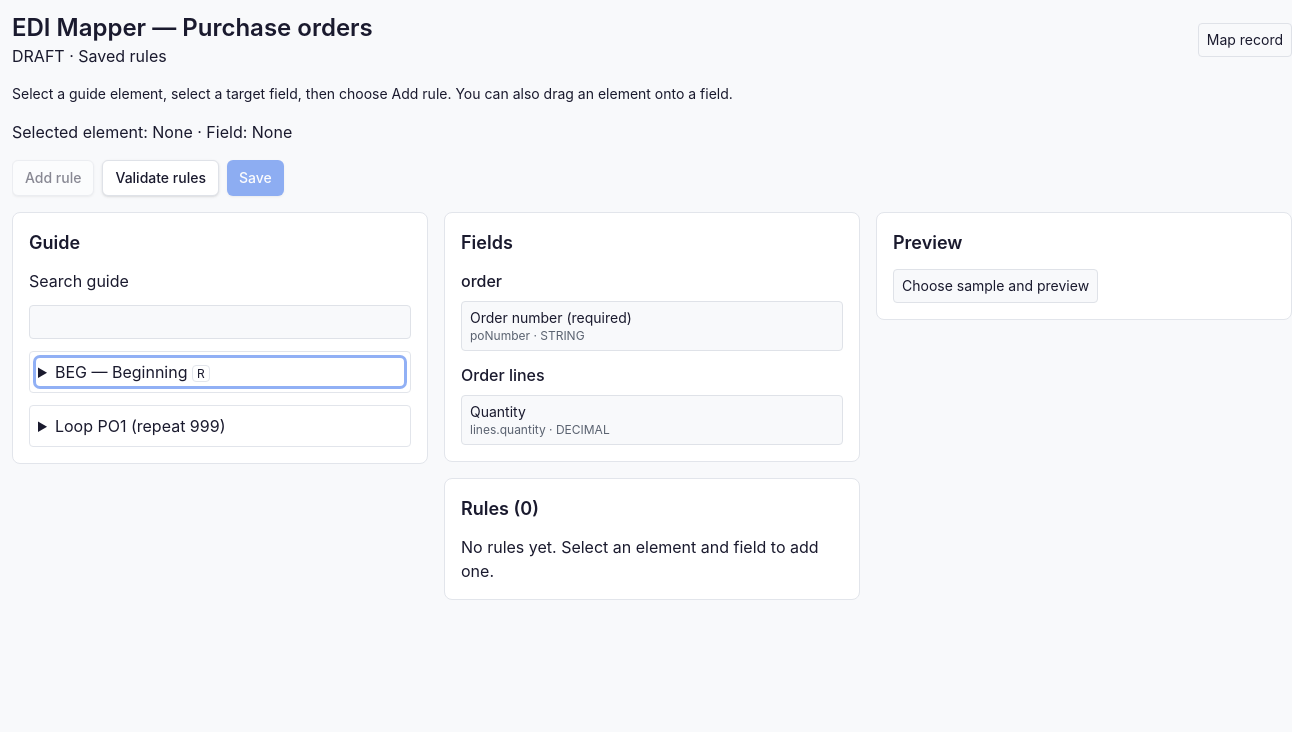
Test: saves inserted rules through core CRUD and does not insert again
Step 1. Press Enter
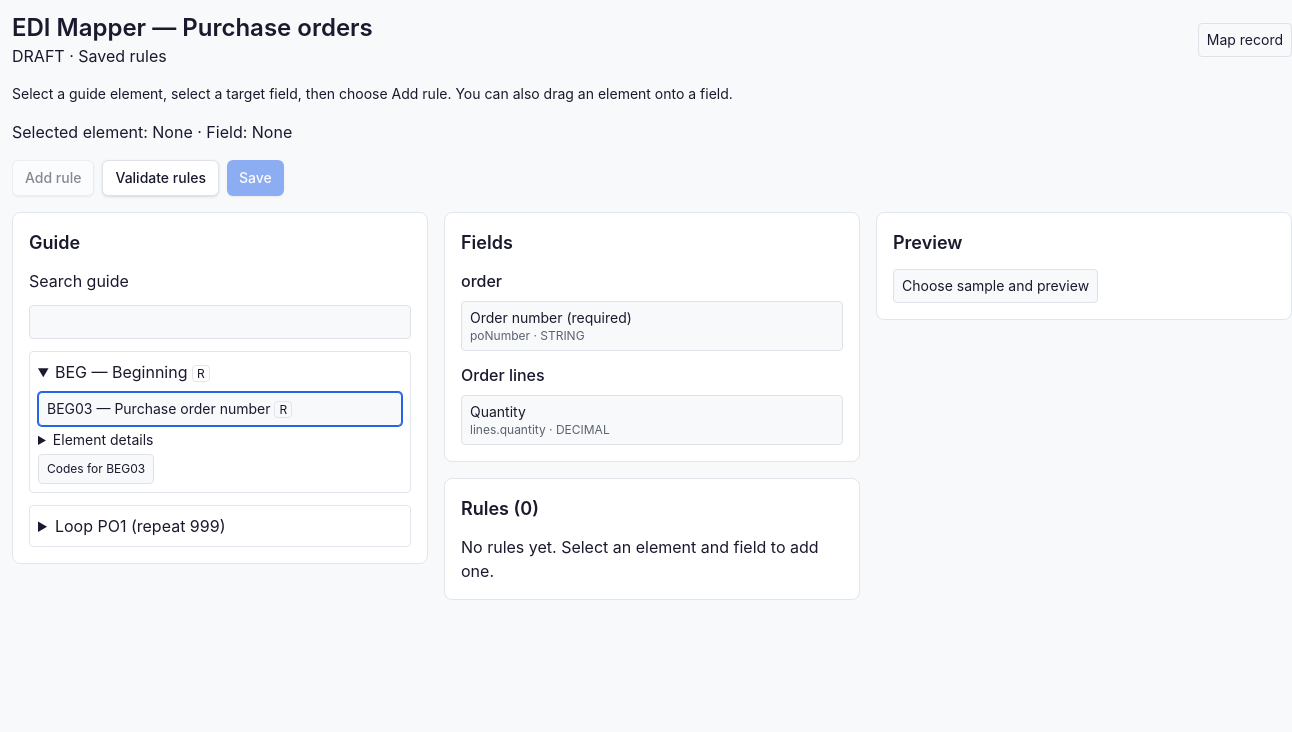
Step 2. Press Enter
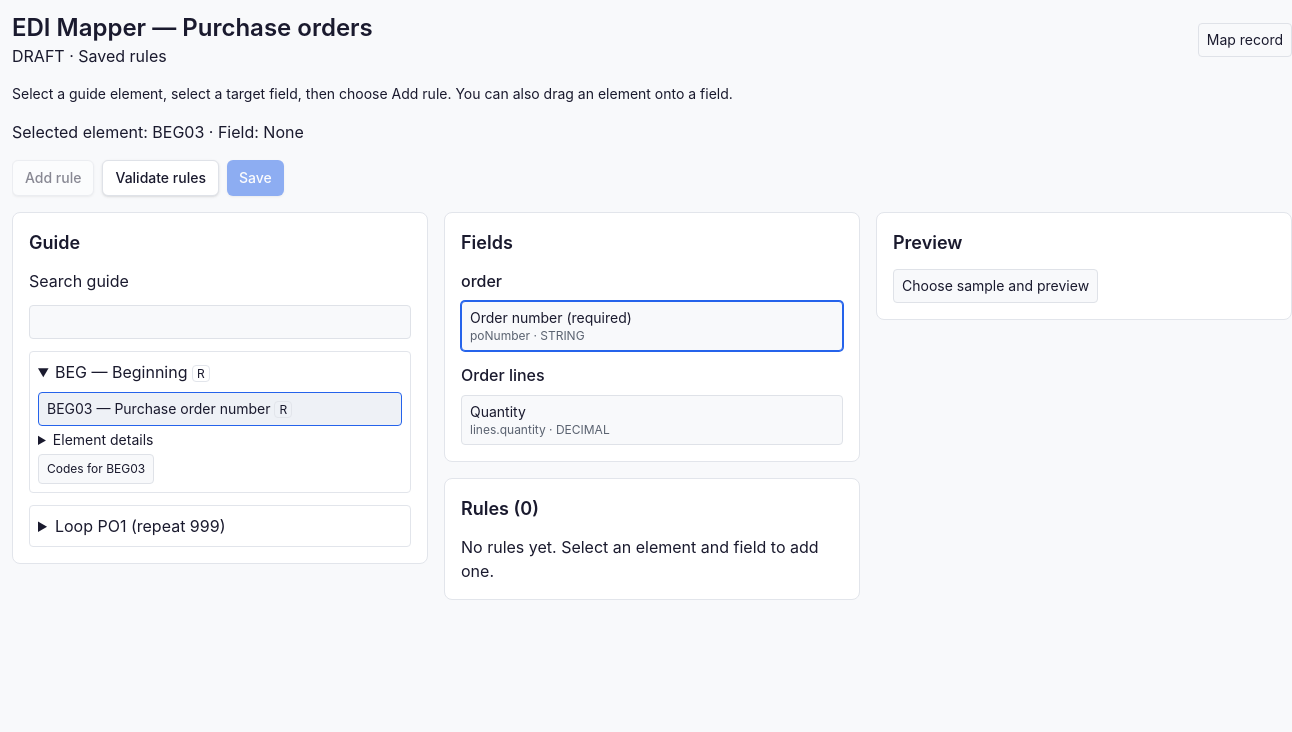
Step 3. Press Enter
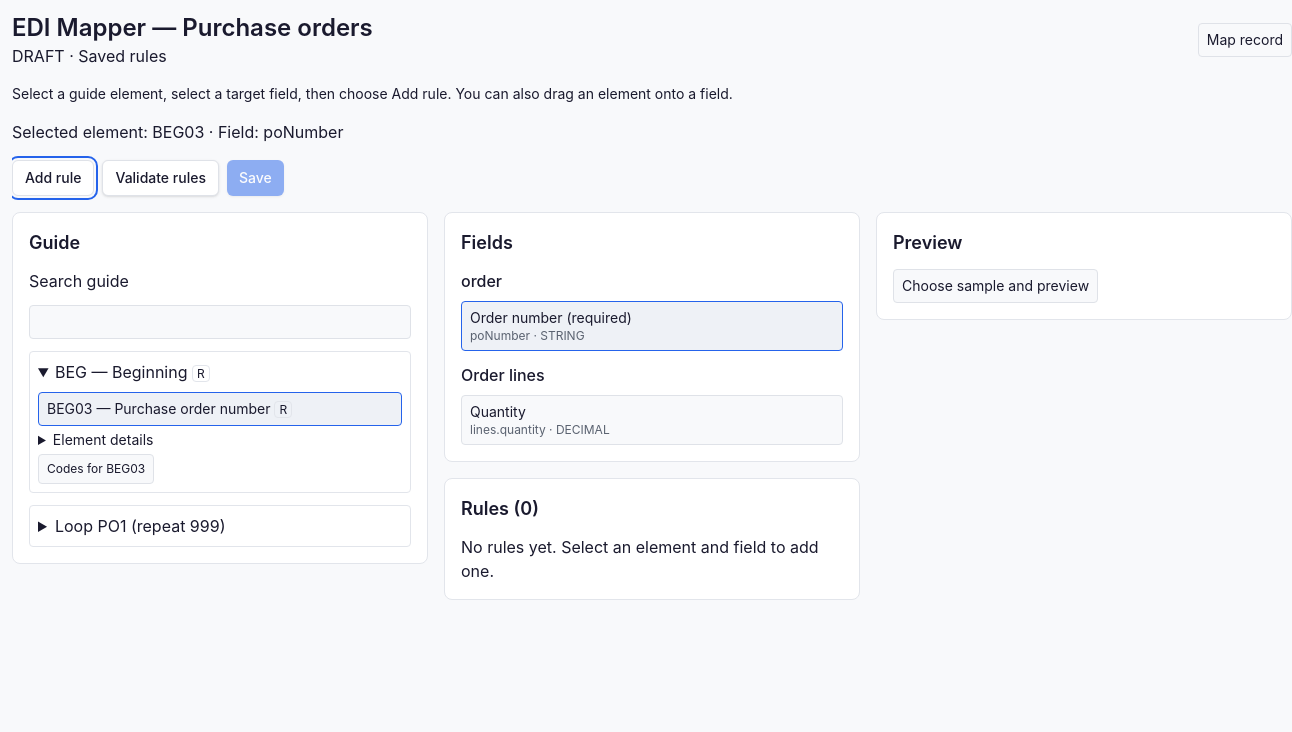
Step 4. Press Enter
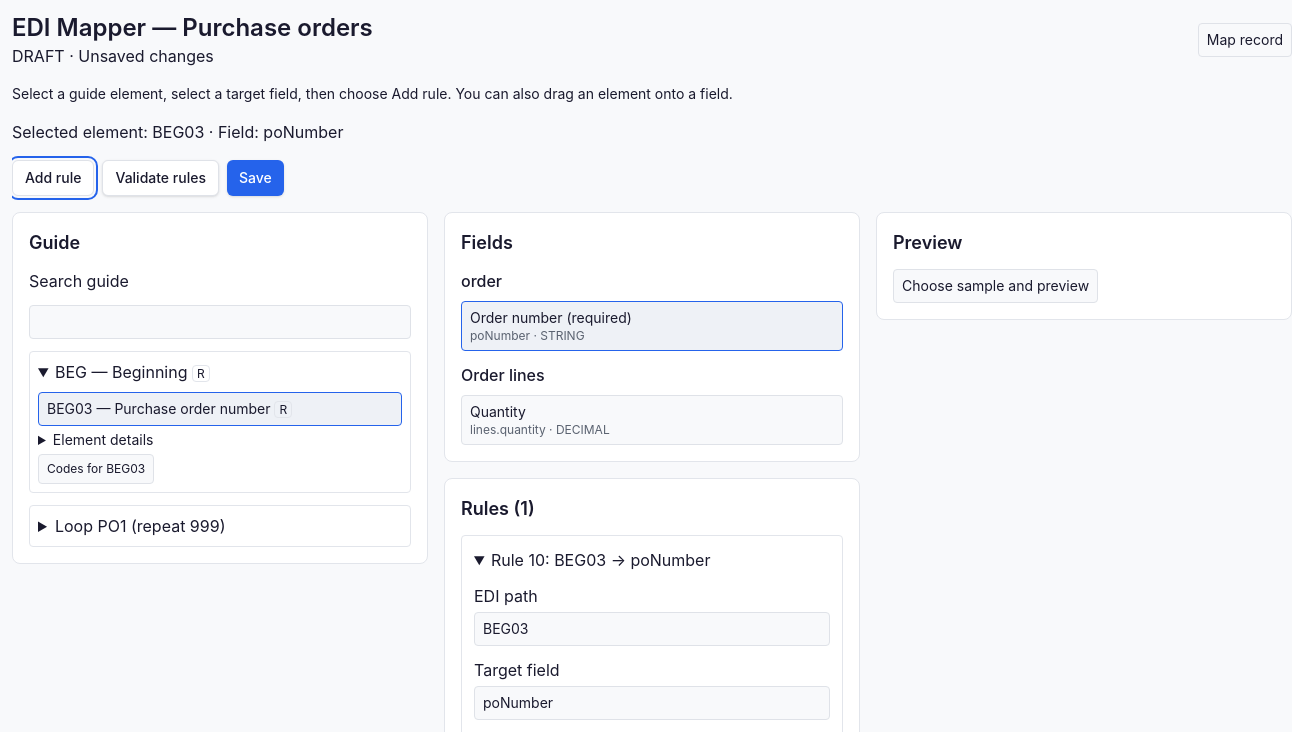
Step 5. Click the button "Save" → (255, 178), box x1=227 y1=160 x2=284 y2=196
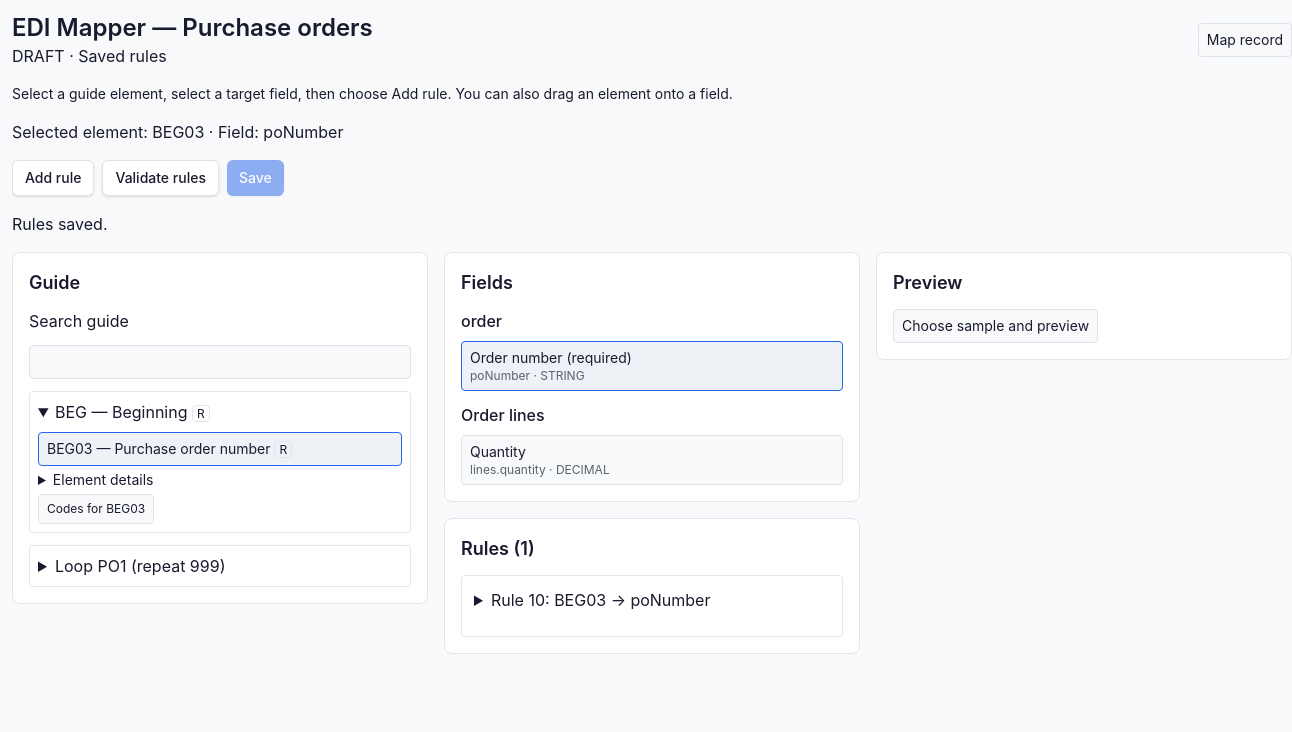
Result: the text "Rules saved." is shown at x1=12 y1=214 x2=108 y2=234
Result: the button "Save" is disabled at x1=227 y1=160 x2=284 y2=196
